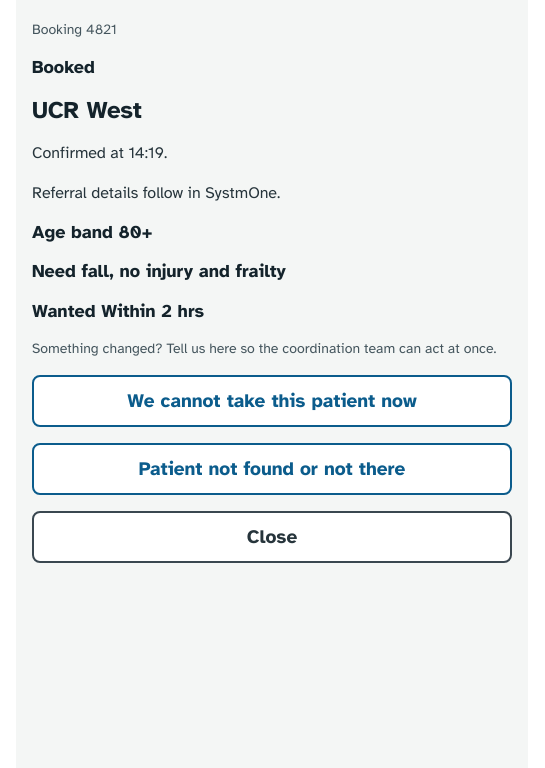
Test: BookingChange: patient not reached › saves a not-reached report with its reason, then thanks the service
The image size is (545, 768).
Click the button "Patient not found or not there": (272, 469) [32,443,512,495]
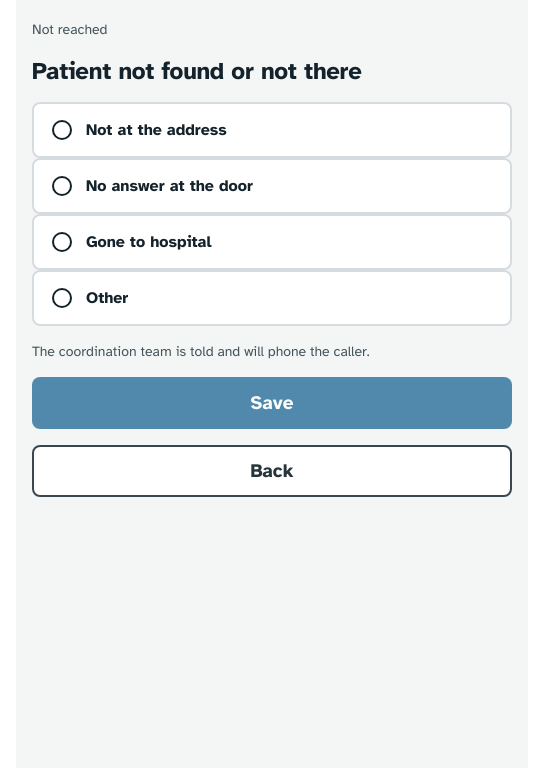
Expected: the heading "Patient not found or not there" is shown, [32,56,362,86]
Now the text "The coordination team is told and will phone the caller." is shown, box [32,343,370,360]
Now the button "Save" is disabled, box [32,377,512,429]
Click the button "No answer at the door": (169, 186) [32,158,512,214]
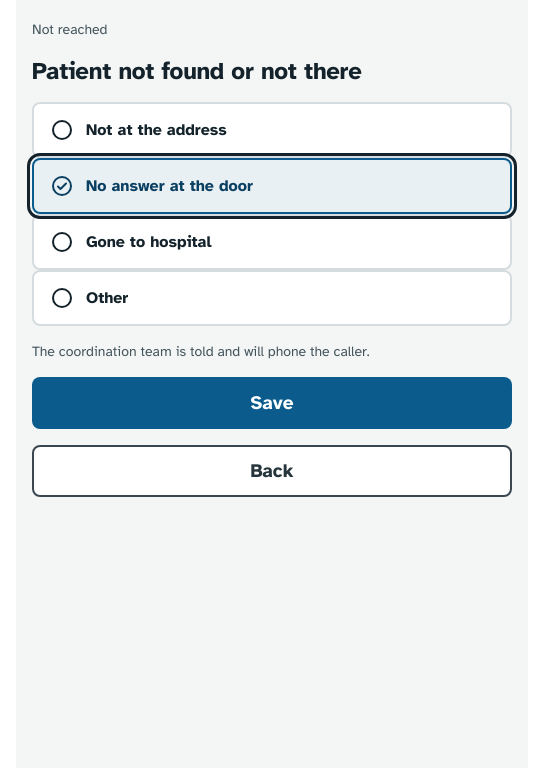
Click the button "Save": (272, 403) [32,377,512,429]
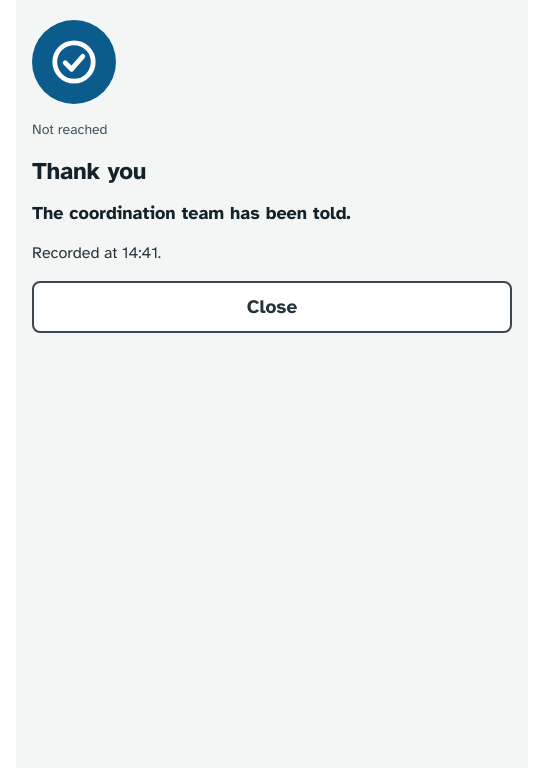
Now the heading "Thank you" is shown, box [32,156,146,186]
Now the text "The coordination team has been told." is shown, box [32,202,351,224]
